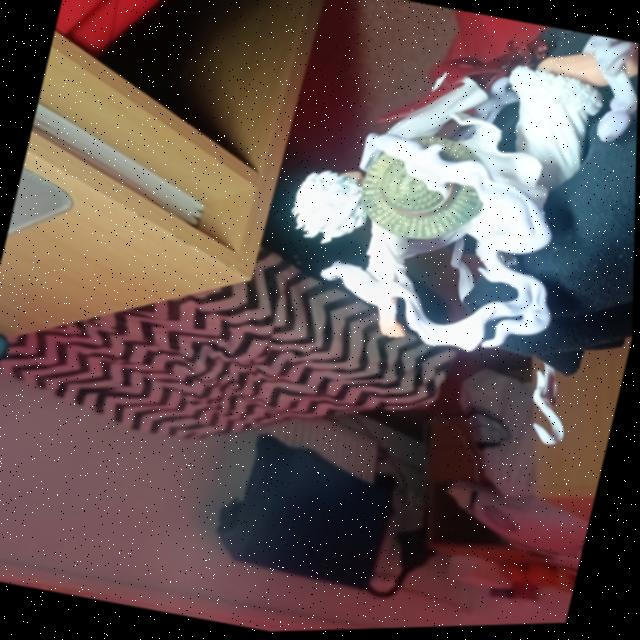luffy: (242, 0, 640, 472)
